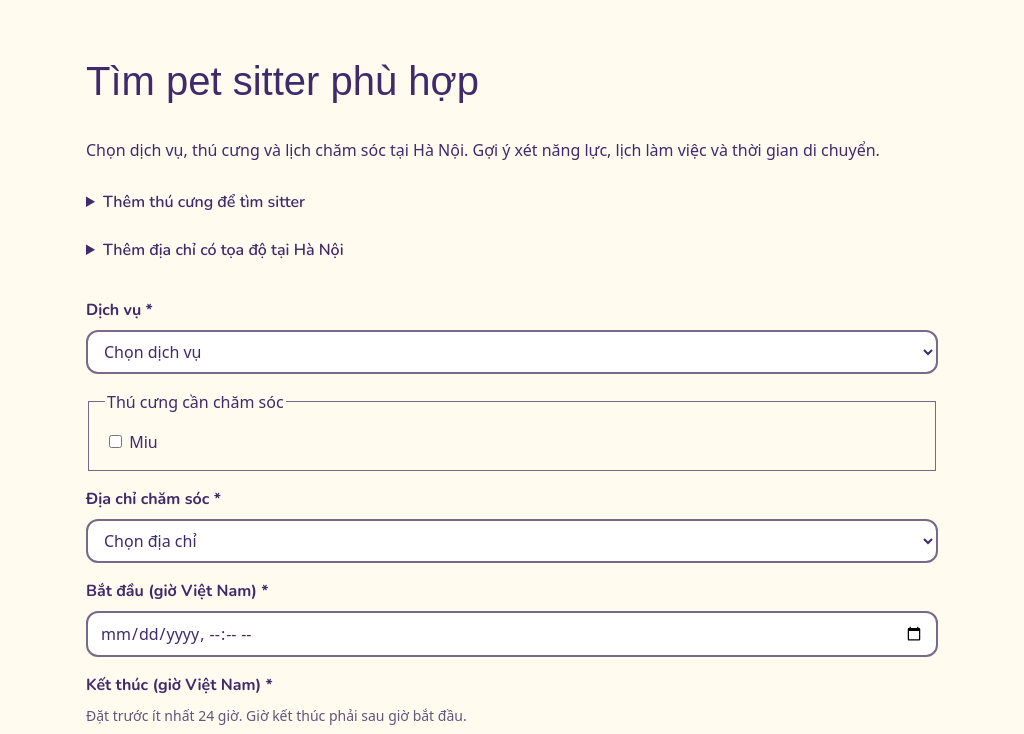
it: shows an unavailable state when routing fails
Expected: the checkbox labelled "Miu" is shown, [109,435,122,448]
Select "Chăm sóc tại nhà" in the dropdown labelled "Dịch vụ": point(512, 352) [86,330,938,374]
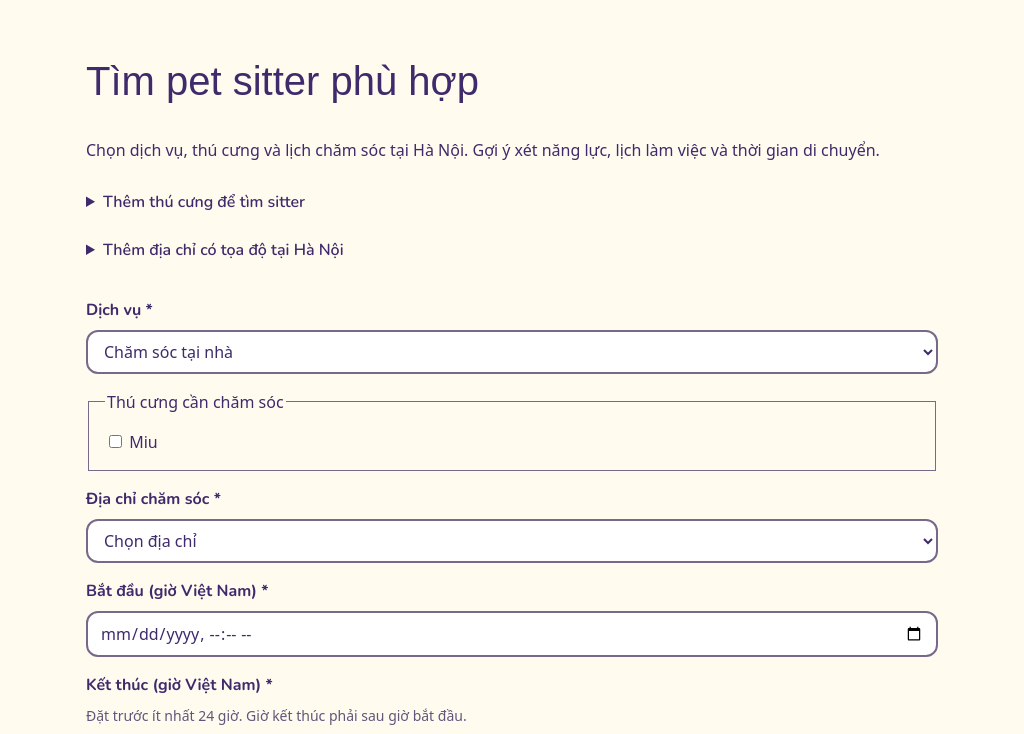
Click the checkbox labelled "Miu": point(116, 441) [109,435,122,448]
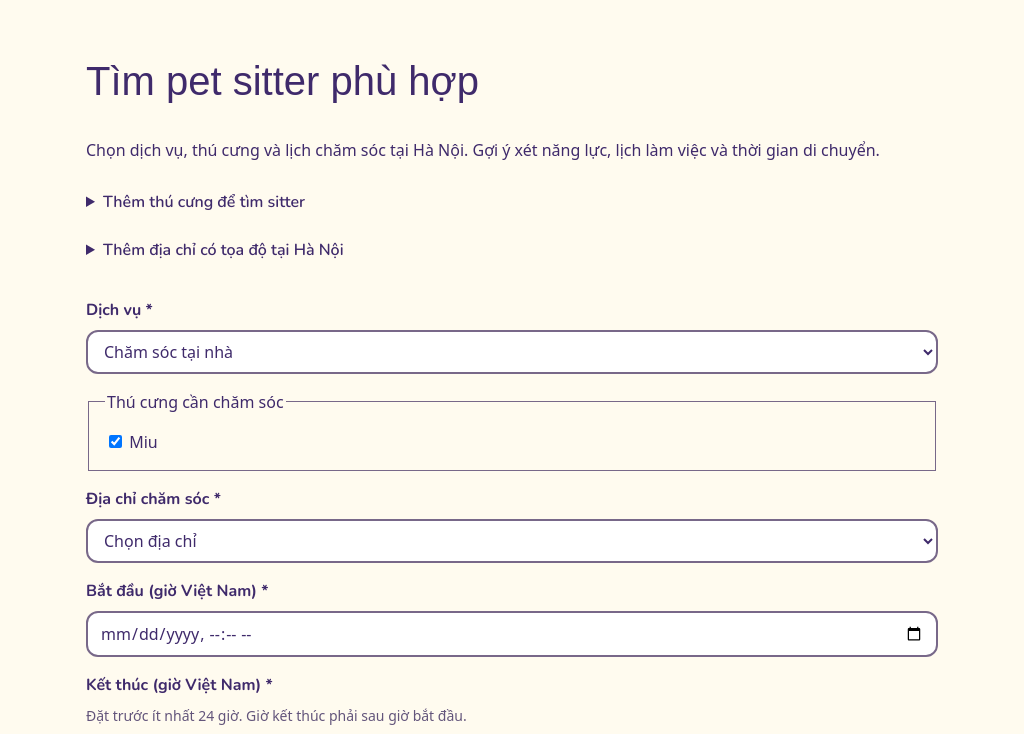
Select "Nhà" in the dropdown labelled "Địa chỉ chăm sóc": point(512, 541) [86,519,938,563]
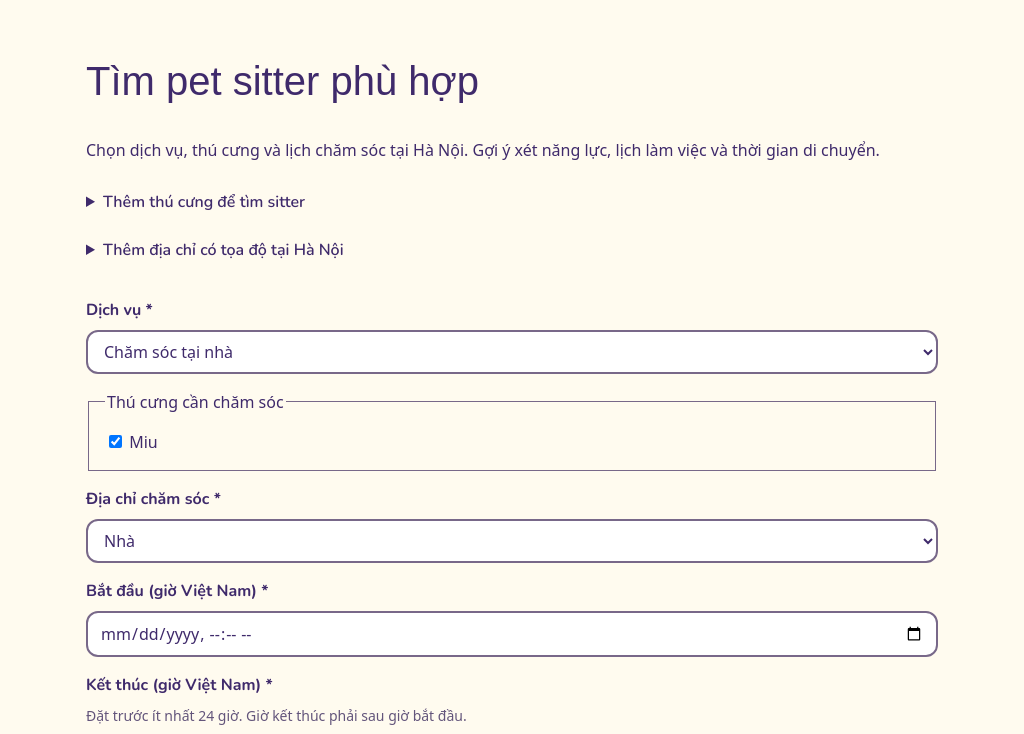
In the field labelled "Bắt đầu (giờ Việt Nam)": point(512, 634) [86,611,938,657], type "2026-11-02T10:00"
(page scrolled)
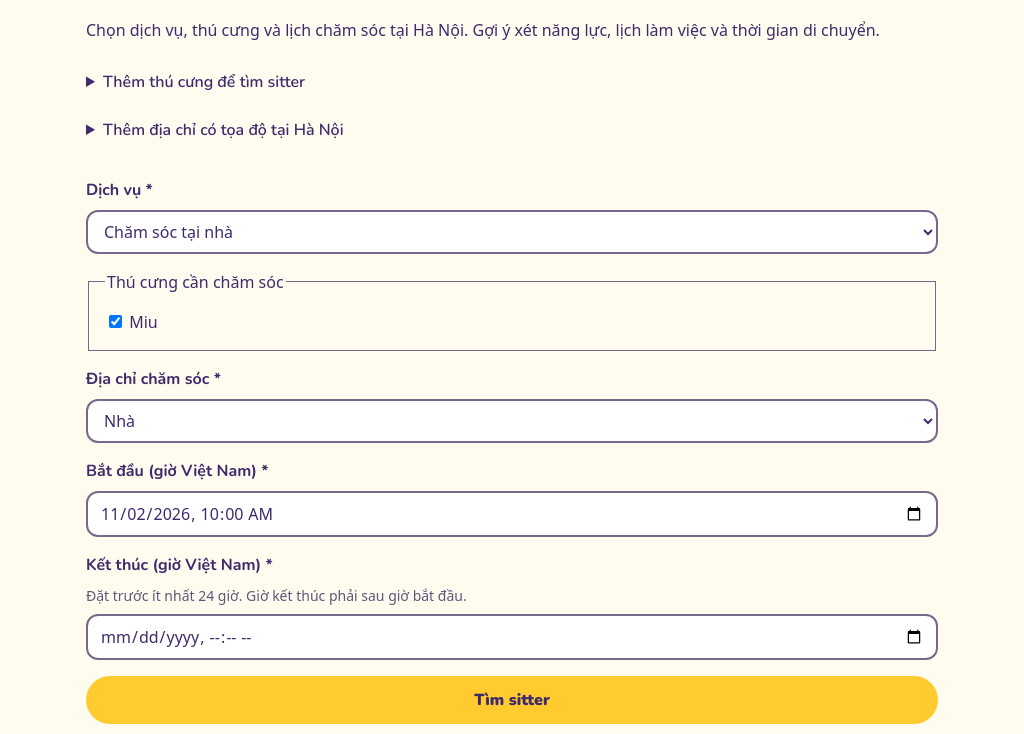
In the field labelled "Kết thúc (giờ Việt Nam)": point(512, 637) [86,614,938,660], type "2026-11-02T10:30"
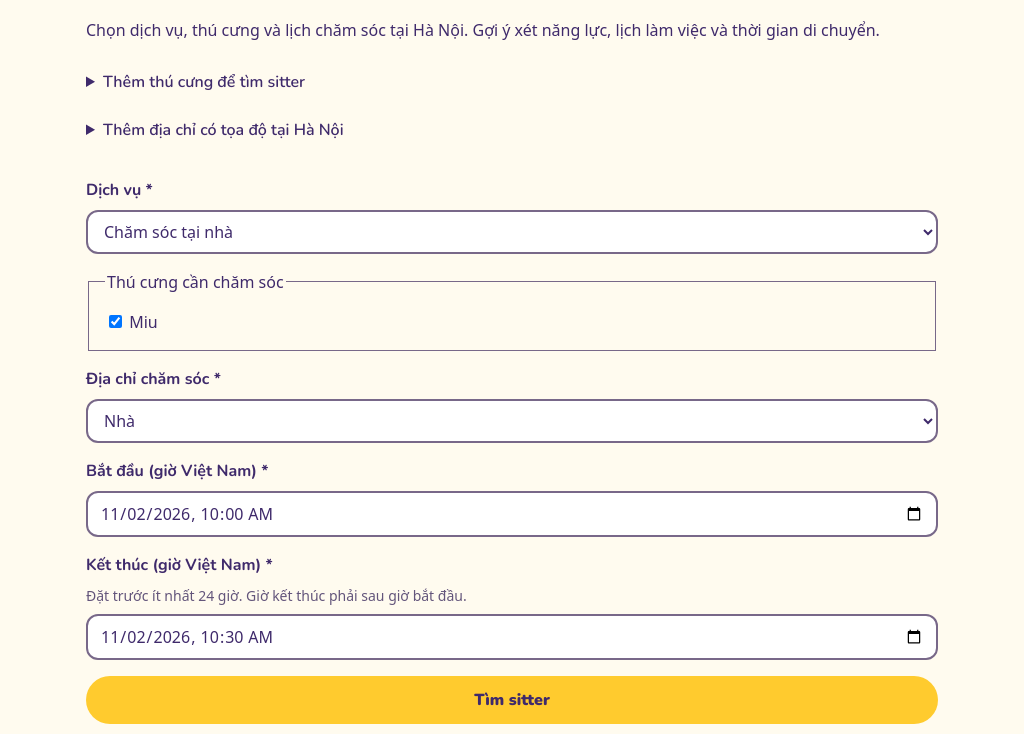
Click the button "Tìm sitter": point(512, 700) [86,676,938,724]
(page scrolled)
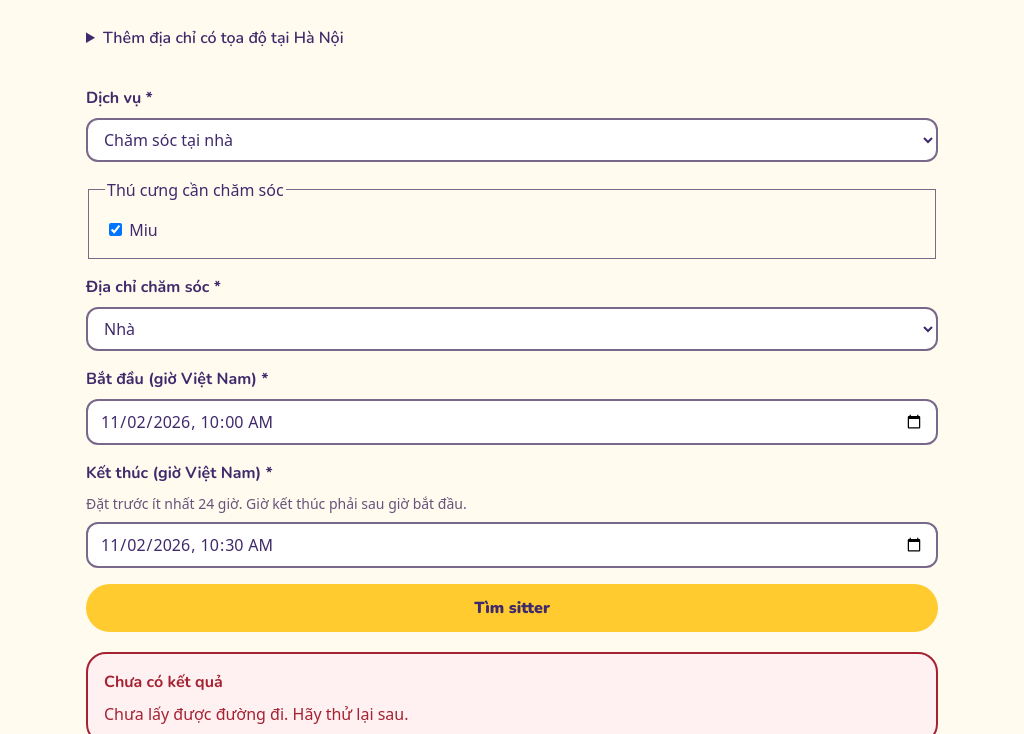
Expected: the text "Chưa lấy được đường đi. Hãy thử lại sau." is shown, [104,703,408,725]
